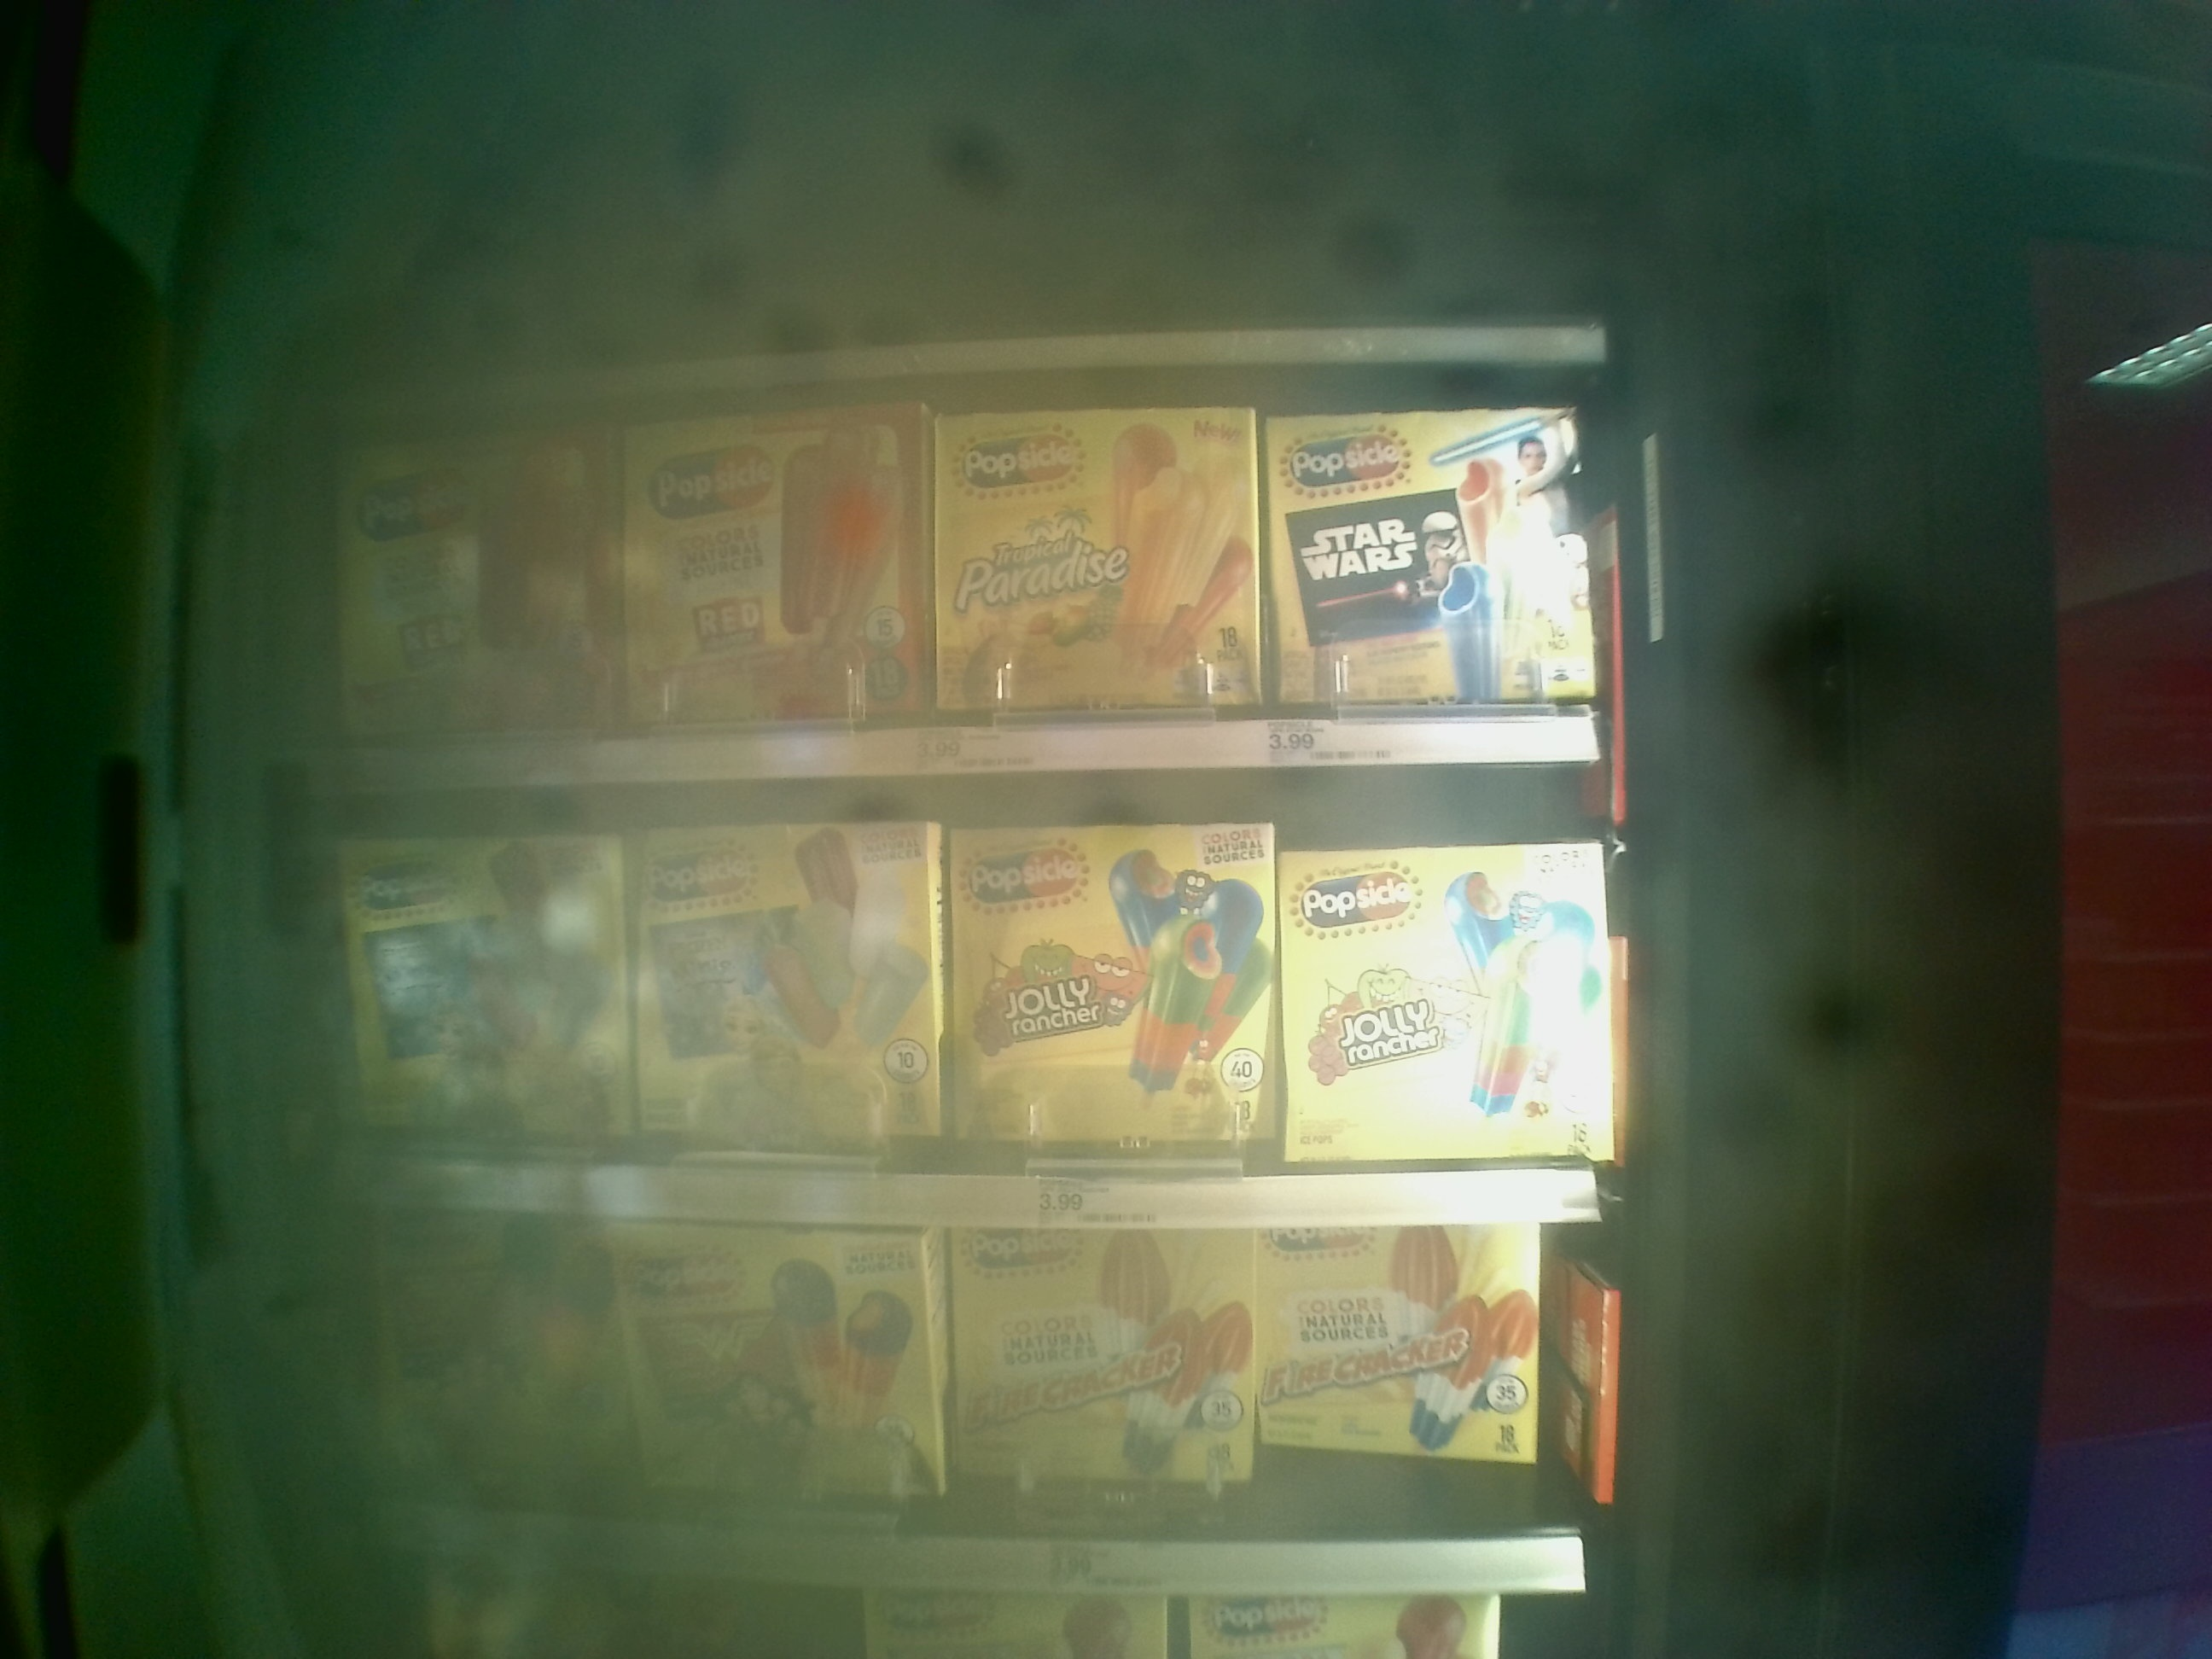frozen-food-shelf: (289, 788, 1630, 1230), (289, 392, 1595, 793)
